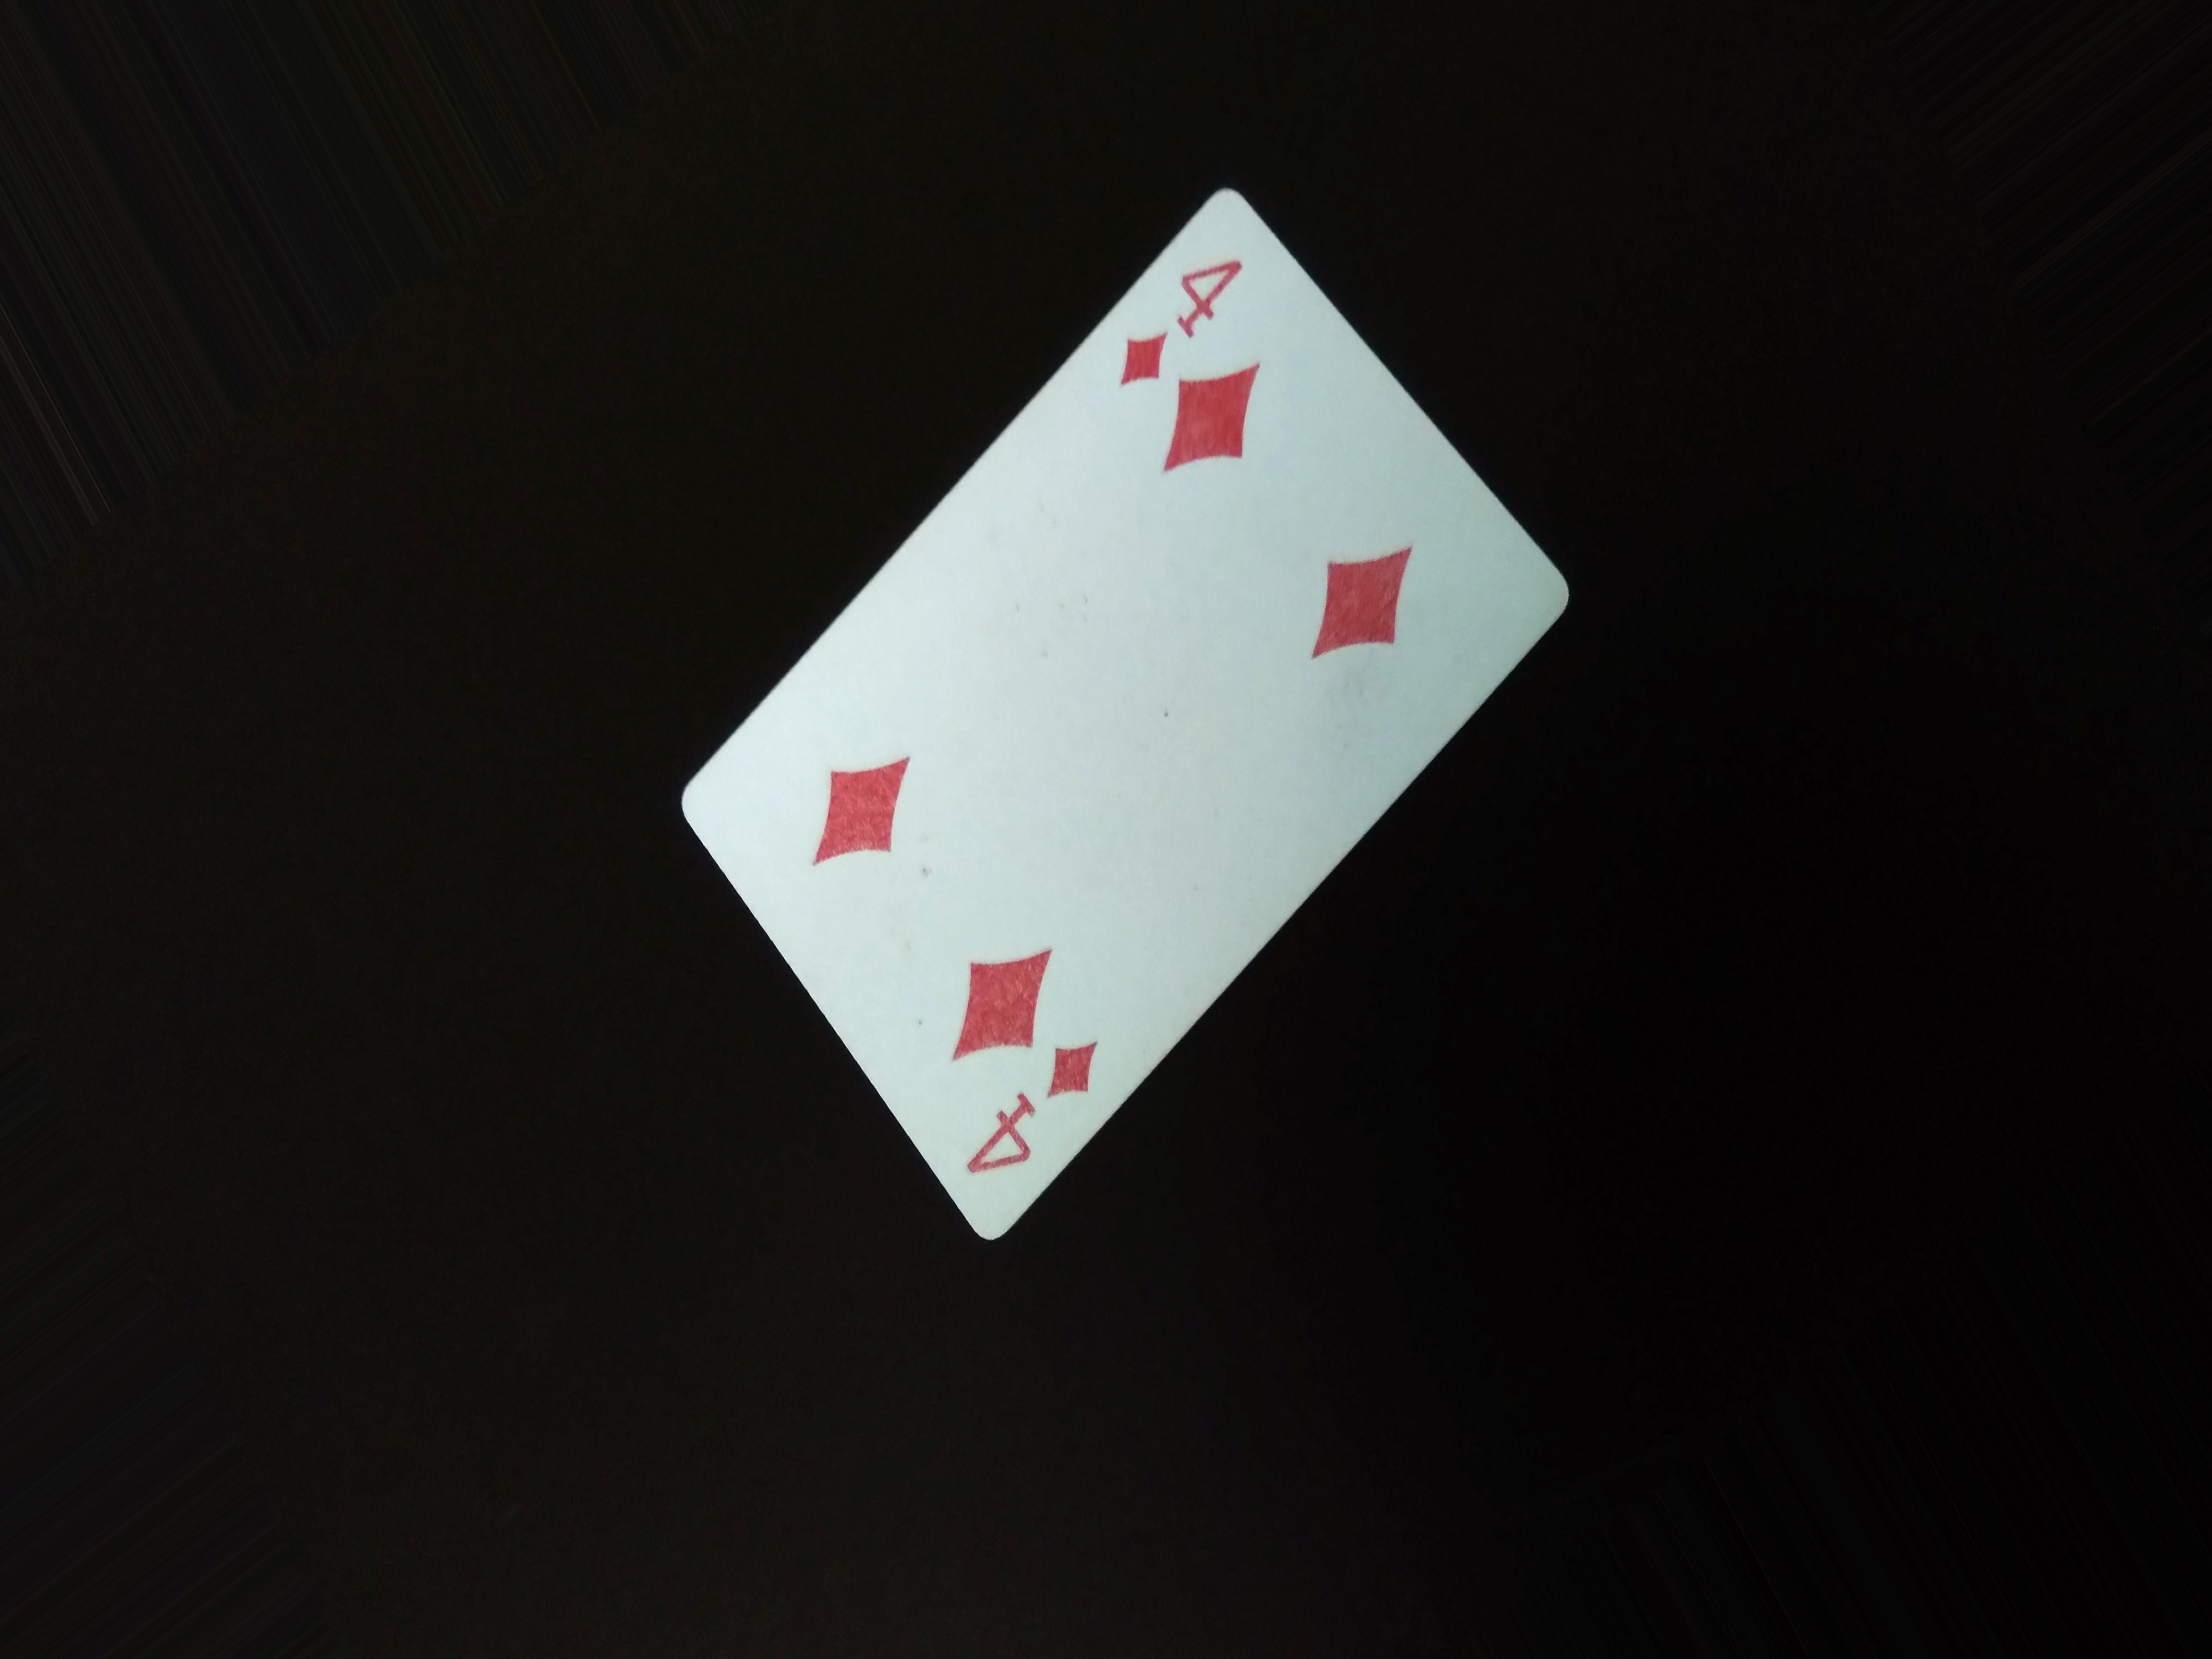4D: (1113, 228, 1258, 399)
